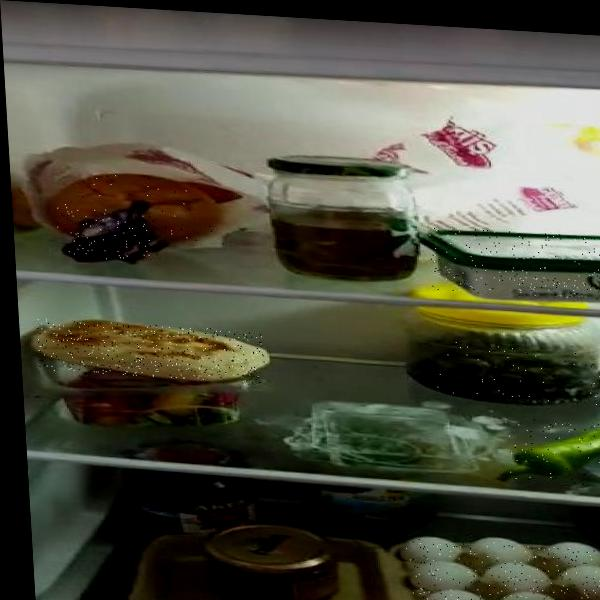bazlama: (37, 318, 266, 383)
bread: (49, 171, 225, 246)
cream cheese: (429, 226, 600, 302)
eggs: (406, 537, 600, 600)
green chilies: (504, 416, 600, 488)
olives: (416, 339, 600, 406)
red onion: (61, 208, 159, 263)
